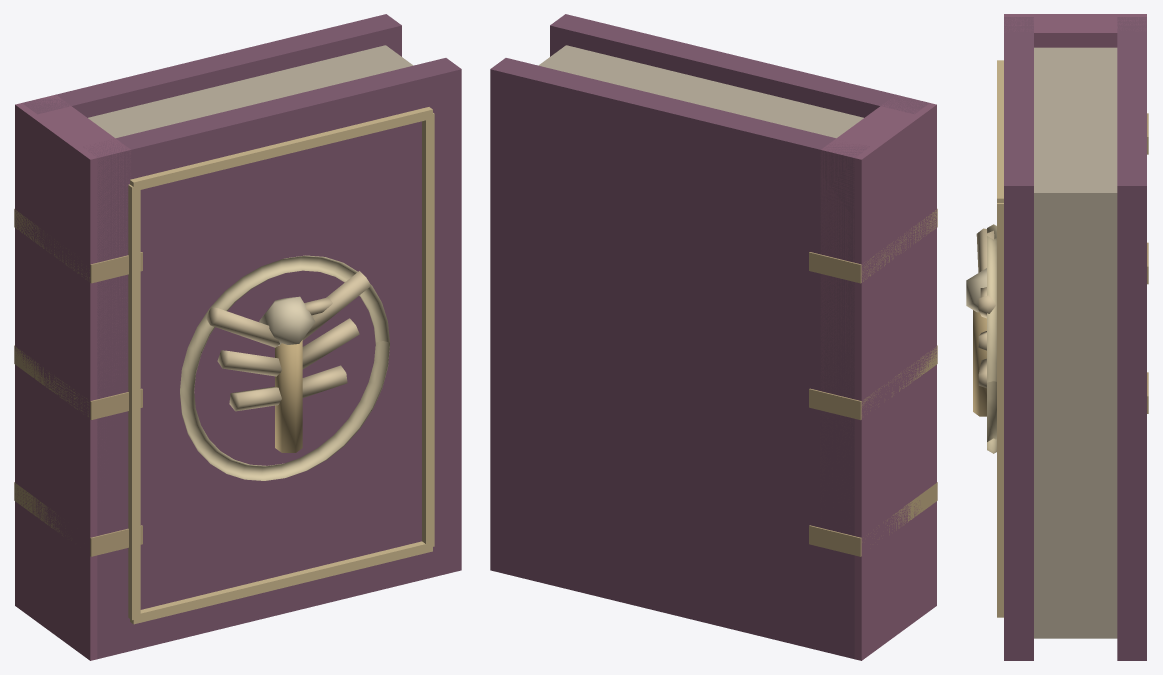
Rendered from ART-01.glb.
3 renders of one model, left to right at view 1: azimuth 30°, elevation 25°; view 2: azimuth 150°, elevation 25°; view 3: azimuth 270°, elevation 25°, orthographic. The views are drawn at different scales.
Parts seen in each view (by area): view 1: world; view 2: world; view 3: world.
Part boxes in pixels (x1,y1,x2,y2): world: (14,14,461,660); world: (490,14,937,660); world: (966,14,1148,660).
Size of the model in its own units: 1.55 by 2 by 0.695.
